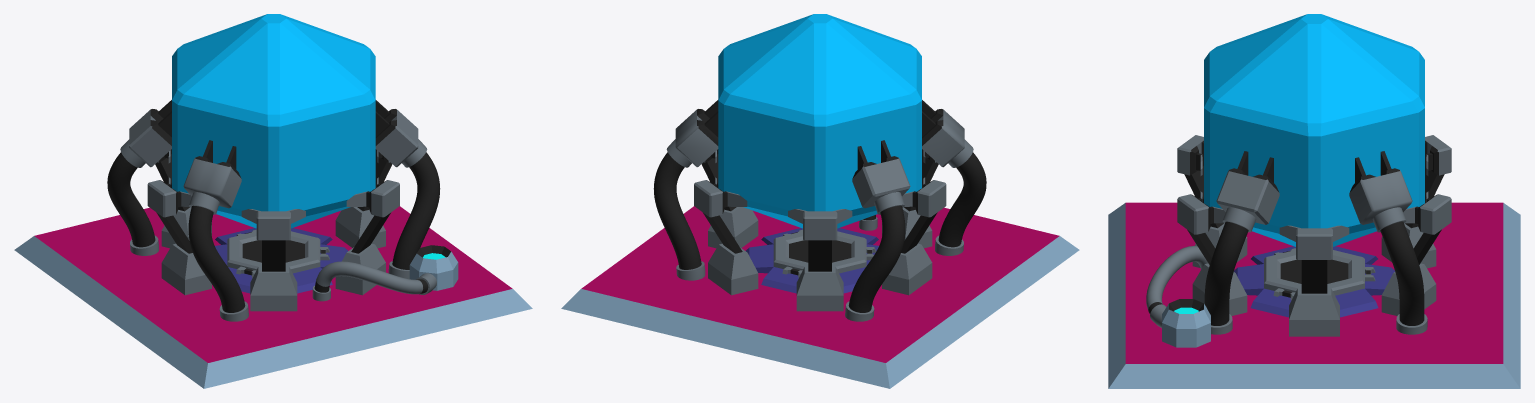
File: Reservoir6.fbx
3 views of the same model, side by side, from view 1: azimuth 30°, elevation 25°; view 2: azimuth 150°, elevation 25°; view 3: azimuth 270°, elevation 25° (orthographic). The views are drawn at different scales.
Visible parts, largest first — view 1: foundation_6, pSphere25, pCylinder93 (×3), installation6, pCube119 (×3), pCube130, alch_base, pCube138, pCube131, pCube166, pCube137, pCube129 (+3 smaller); view 2: foundation_6, pSphere25, pCylinder93 (×3), installation6, pCube119 (×3), pCube132, pCube133, pCube137, pCube131, pCube165, pCube138, pCube128 (+1 smaller); view 3: foundation_6, pSphere25, pCylinder93 (×2), pCube119 (×5), installation6, pCube128, pCube165, pCube166, alch_beacon, alch_base, pCube133, pCube129 (+2 smaller).
Part boxes in pixels (box(x1,y1,x2,y2)): foundation_6: box(14, 206, 532, 388); pSphere25: box(172, 14, 375, 228); pCylinder93 (×3): box(107, 139, 440, 321); installation6: box(215, 228, 347, 293); pCube119 (×3): box(147, 177, 399, 240); pCube130: box(250, 240, 297, 311); alch_base: box(312, 261, 436, 301); pCube138: box(183, 140, 241, 208); pCube131: box(156, 212, 211, 295); pCube166: box(375, 100, 418, 167); pCube137: box(129, 100, 171, 167); pCube129: box(335, 213, 390, 295); foundation_6: box(561, 206, 1079, 388); pSphere25: box(718, 14, 921, 228); pCylinder93 (×3): box(653, 139, 986, 321); installation6: box(746, 228, 878, 293); pCube119 (×3): box(694, 177, 946, 240); pCube132: box(796, 240, 843, 311); pCube133: box(703, 213, 758, 295); pCube137: box(852, 140, 910, 208); pCube131: box(882, 212, 937, 295); pCube165: box(675, 100, 718, 167); pCube138: box(922, 100, 964, 167); pCube128: box(701, 154, 758, 248); foundation_6: box(1108, 202, 1520, 388); pSphere25: box(1204, 14, 1424, 246); pCylinder93 (×2): box(1204, 207, 1427, 334); pCube119 (×5): box(1177, 135, 1451, 259); installation6: box(1234, 246, 1394, 317); pCube128: box(1289, 260, 1339, 336); pCube165: box(1349, 151, 1412, 224); pCube166: box(1216, 151, 1279, 224); alch_beacon: box(1162, 299, 1210, 347); alch_base: box(1146, 246, 1207, 327); pCube133: box(1381, 229, 1441, 315); pCube129: box(1187, 229, 1247, 315).
Size of the model in its own units: 78.63 by 59.58 by 78.63.
